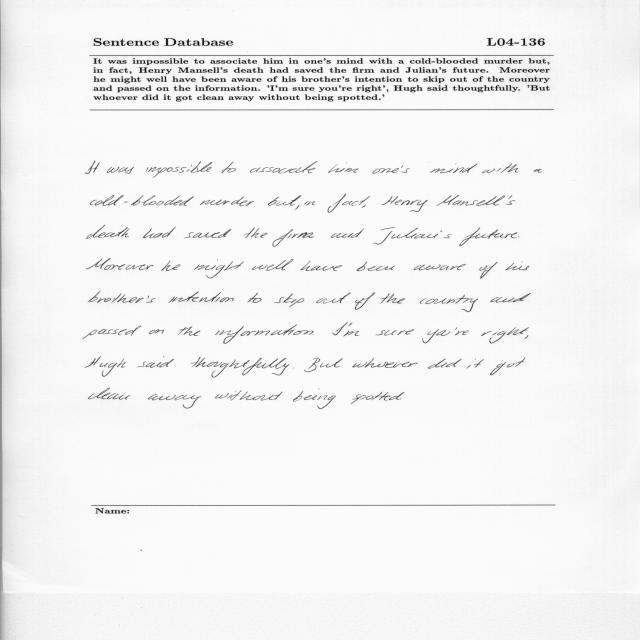word: (215, 324, 314, 344), (191, 357, 290, 377), (373, 228, 452, 245), (90, 195, 194, 206), (146, 161, 212, 178), (460, 228, 518, 246), (420, 295, 478, 312), (194, 259, 244, 278), (250, 161, 317, 174), (437, 195, 516, 206), (293, 389, 336, 409), (85, 357, 126, 377), (328, 194, 371, 213), (88, 291, 156, 303), (87, 259, 154, 271), (382, 195, 428, 212), (169, 291, 234, 303), (272, 229, 314, 247), (83, 326, 141, 339), (148, 394, 201, 408), (215, 391, 282, 401), (353, 358, 418, 368), (491, 358, 526, 376), (87, 225, 130, 239), (200, 197, 254, 207), (89, 388, 131, 400), (252, 259, 293, 271), (430, 164, 478, 174), (351, 392, 391, 404), (184, 229, 231, 238), (301, 261, 343, 271), (274, 293, 304, 307), (490, 293, 531, 303), (137, 357, 174, 368), (422, 330, 450, 344), (481, 329, 507, 344), (317, 293, 351, 304), (268, 195, 301, 206), (143, 227, 176, 238), (482, 164, 518, 174), (355, 292, 375, 310), (356, 262, 395, 271), (428, 359, 462, 369), (331, 228, 364, 238), (479, 262, 498, 279), (414, 264, 466, 270), (373, 166, 410, 174), (380, 293, 405, 304), (244, 227, 267, 238), (376, 330, 414, 336), (343, 323, 359, 337), (178, 326, 200, 336), (305, 358, 320, 372), (328, 162, 347, 173), (332, 323, 348, 336), (161, 261, 181, 271), (320, 359, 342, 368), (506, 262, 530, 270), (107, 167, 134, 174), (86, 161, 100, 174), (507, 327, 529, 335), (221, 162, 236, 173), (466, 359, 484, 368), (248, 293, 262, 303), (389, 392, 404, 400), (455, 327, 469, 335), (149, 329, 164, 334), (345, 168, 359, 173), (304, 201, 315, 206), (534, 169, 543, 173), (295, 205, 300, 210), (362, 204, 366, 208), (525, 335, 529, 339), (518, 237, 519, 237), (313, 335, 314, 335), (293, 368, 294, 368)
